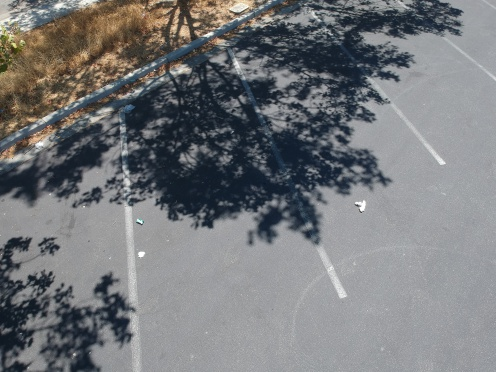can: (152, 66, 164, 74)
plastic bag: (351, 195, 372, 217), (116, 101, 136, 117)
